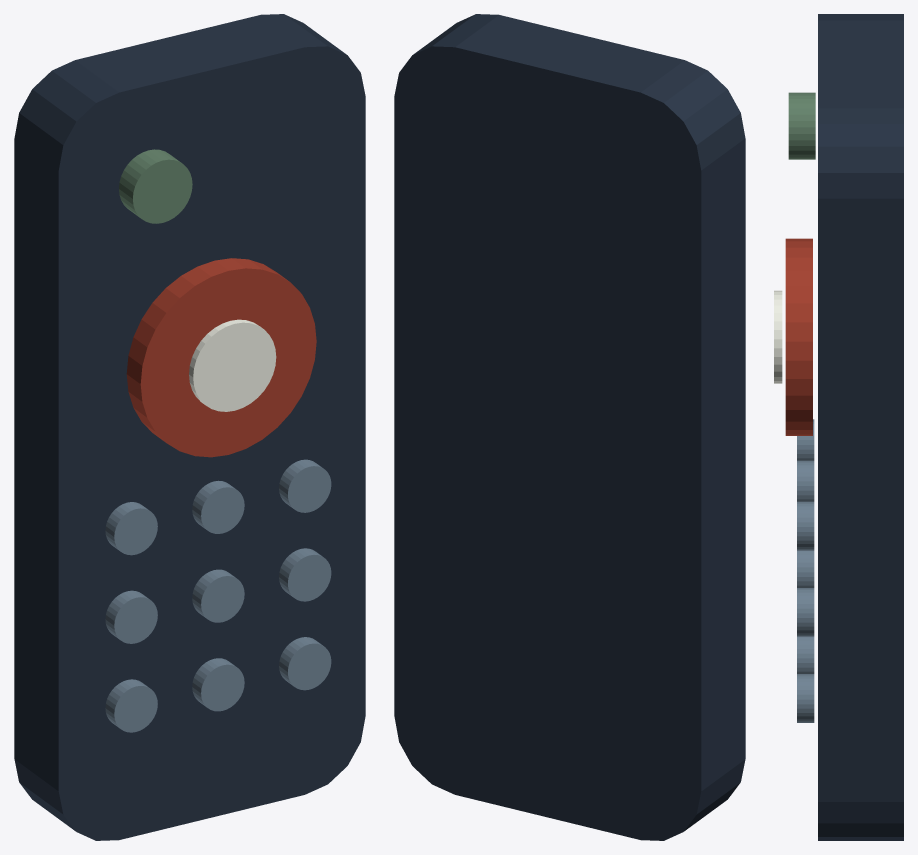
File: remote.glb
The picture shows the model from 3 angles, left to right: view 1: azimuth 30°, elevation 25°; view 2: azimuth 150°, elevation 25°; view 3: azimuth 270°, elevation 25°; orthographic projection. The views are drawn at different scales.
Visible parts, largest first — view 1: housing, direction ring, ok button, power key, key 1-2, key 0-2, key 1-1, key 0-1, key 2-1, key 0-0, key 2-0, key 1-0 (+1 smaller); view 2: housing; view 3: housing, direction ring, power key, key 2-0, key 2-1, key 2-2, ok button, key 1-0, key 1-1, key 1-2, key 0-0.
Boxes of the visible parts, bbox=[...] form: housing: bbox=[14, 14, 365, 840]; direction ring: bbox=[126, 258, 316, 457]; ok button: bbox=[189, 319, 276, 411]; power key: bbox=[119, 149, 192, 223]; key 1-2: bbox=[192, 658, 244, 711]; key 0-2: bbox=[105, 679, 157, 732]; key 1-1: bbox=[192, 569, 244, 622]; key 0-1: bbox=[105, 590, 157, 643]; key 2-1: bbox=[279, 548, 331, 601]; key 0-0: bbox=[105, 502, 157, 555]; key 2-0: bbox=[279, 459, 331, 512]; key 1-0: bbox=[192, 480, 244, 533]; housing: bbox=[394, 14, 745, 840]; housing: bbox=[818, 14, 903, 840]; direction ring: bbox=[785, 238, 812, 435]; power key: bbox=[788, 92, 815, 159]; key 2-0: bbox=[797, 501, 814, 550]; key 2-1: bbox=[797, 588, 814, 636]; key 2-2: bbox=[797, 674, 814, 722]; ok button: bbox=[774, 290, 782, 383]; key 1-0: bbox=[797, 460, 814, 501]; key 1-1: bbox=[797, 550, 814, 587]; key 1-2: bbox=[797, 636, 814, 673]; key 0-0: bbox=[797, 419, 814, 460].
Size of the model in its own units: 0.76 by 1.77 by 0.287.
